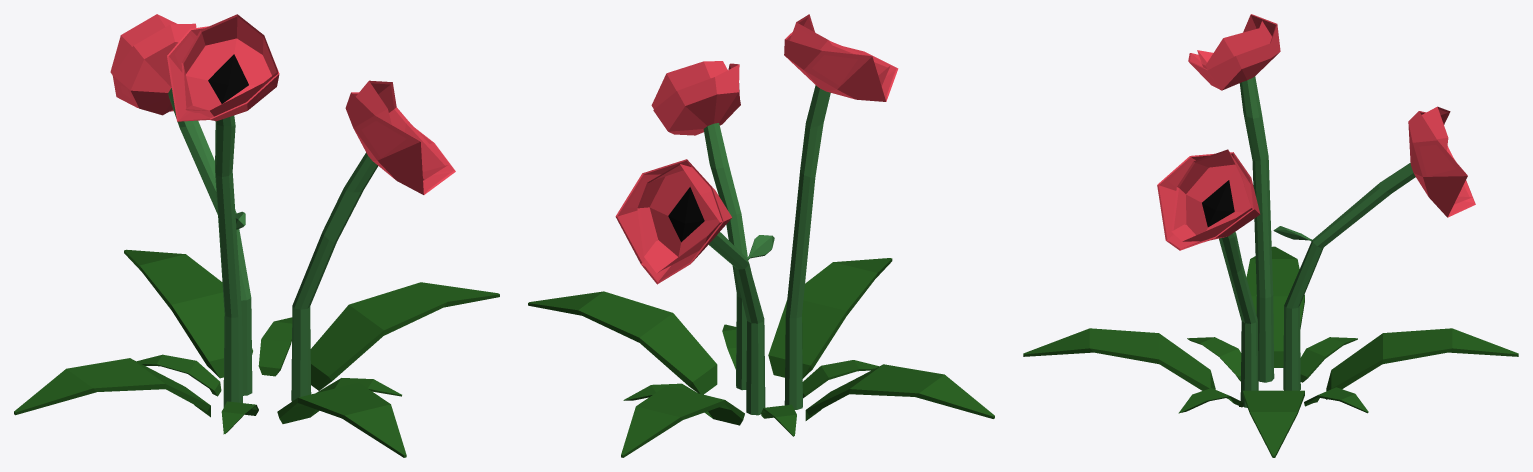
File: poppy.fbx
3 renders of one model, left to right at view 1: azimuth 30°, elevation 25°; view 2: azimuth 150°, elevation 25°; view 3: azimuth 270°, elevation 25°, orthographic. The views are drawn at different scales.
Visible parts, largest first — view 1: Cube.003; view 2: Cube.003; view 3: Cube.003.
Boxes of the visible parts, x1,y1,x2,y2 form: Cube.003: [14, 14, 499, 457]; Cube.003: [528, 14, 994, 457]; Cube.003: [1023, 14, 1518, 457].
Size of the model in its own units: 116 by 90.48 by 116.
